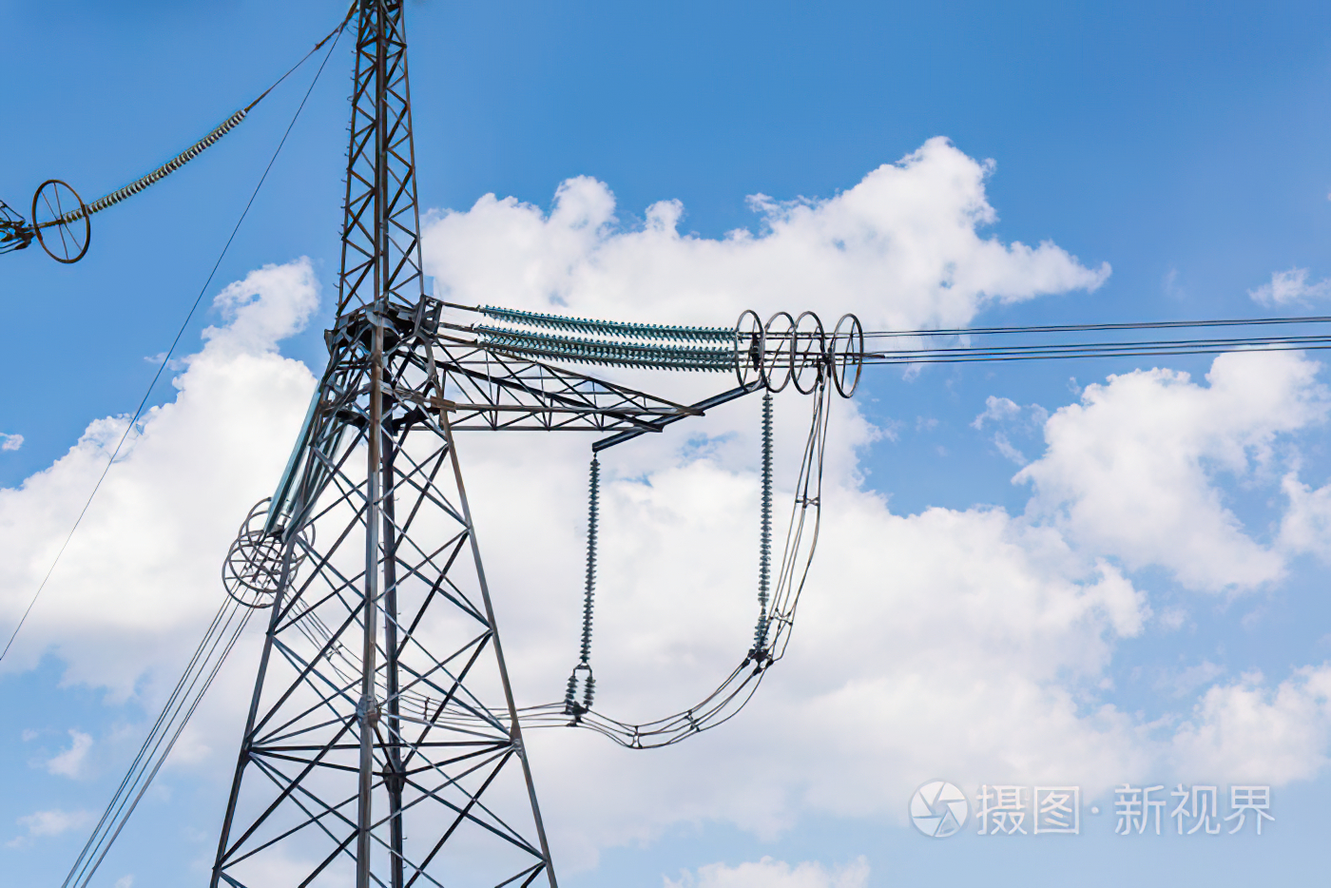insulator: (53, 106, 248, 231), (468, 298, 739, 374), (573, 461, 603, 663), (752, 394, 777, 604)
